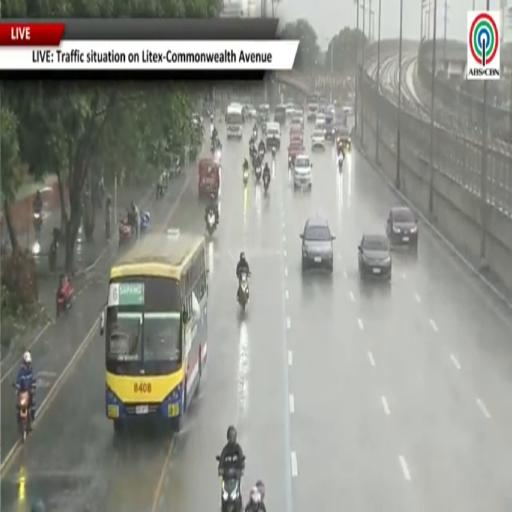bus: (101, 230, 208, 433), (226, 104, 243, 139), (306, 94, 320, 120)
car: (300, 218, 335, 271), (358, 234, 392, 280), (387, 206, 418, 249), (293, 154, 312, 188), (288, 140, 304, 168), (336, 124, 351, 152), (266, 122, 281, 149), (312, 128, 325, 150), (325, 115, 335, 140), (274, 105, 285, 124), (245, 104, 257, 120), (289, 124, 302, 138), (294, 108, 303, 127), (291, 117, 303, 130), (285, 104, 295, 118), (315, 119, 326, 131), (315, 112, 325, 125), (326, 104, 335, 115)
motorcycle: (221, 469, 242, 511), (17, 391, 31, 442), (56, 280, 74, 316), (237, 272, 249, 311), (119, 219, 133, 246), (48, 238, 58, 271), (206, 210, 216, 236), (140, 211, 150, 235), (141, 211, 150, 234), (33, 212, 42, 234), (263, 174, 269, 193), (255, 166, 261, 182), (338, 156, 344, 171), (243, 169, 248, 185), (259, 148, 265, 159), (272, 147, 276, 159), (253, 127, 257, 139)
